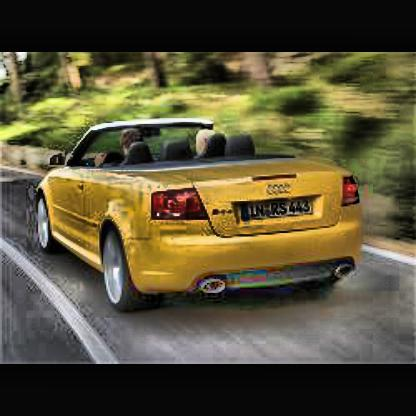Audi RS 4 Convertible 2008: (38, 117, 369, 318)
